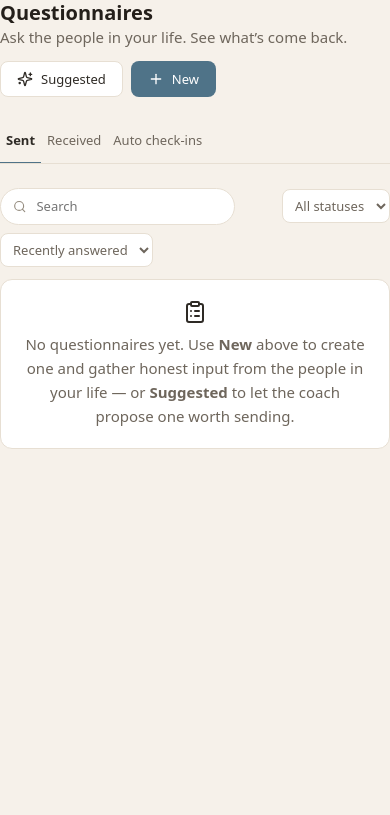
it: Questionnaires › offers contextOnly as the most-private compatibility mode, never implying owner access (38 §3.8)
Click the button "New": (173,79) [131,61,216,97]
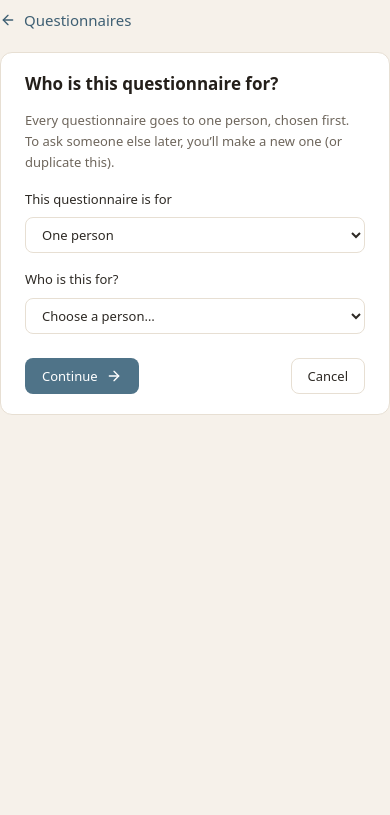
Select "Compatibility — you + them" in the dropdown labelled "This questionnaire is for": (195,235) [25,217,365,253]
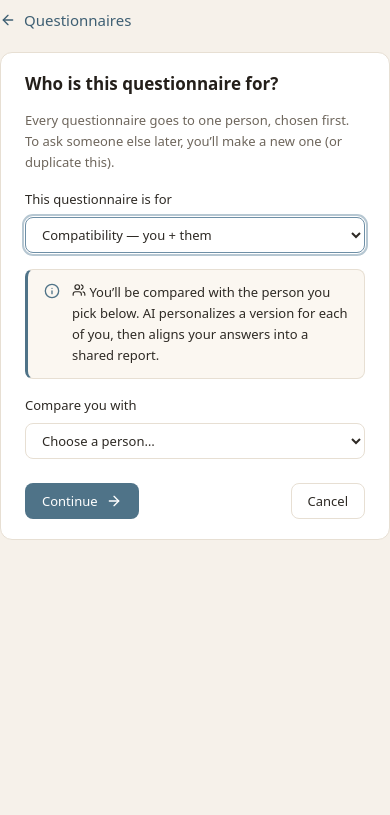
Select "Mara" in the dropdown labelled "Compare you with": (195,441) [25,423,365,459]
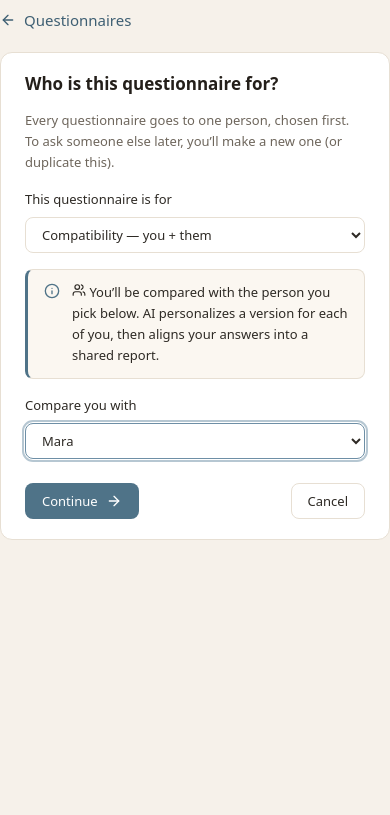
Click the button "Continue": (82,501) [25,483,139,519]
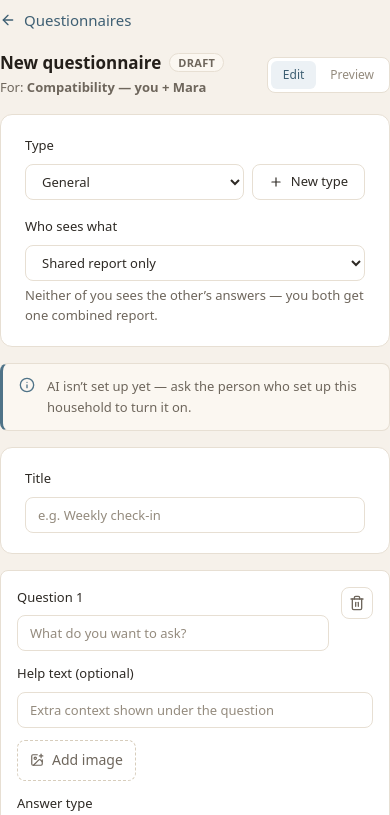
Check: the field labelled "Title" is shown, box [25,497,365,533]
Select "No report — just inform each coach" in the dropdown labelled "Who sees what": (195,263) [25,245,365,281]
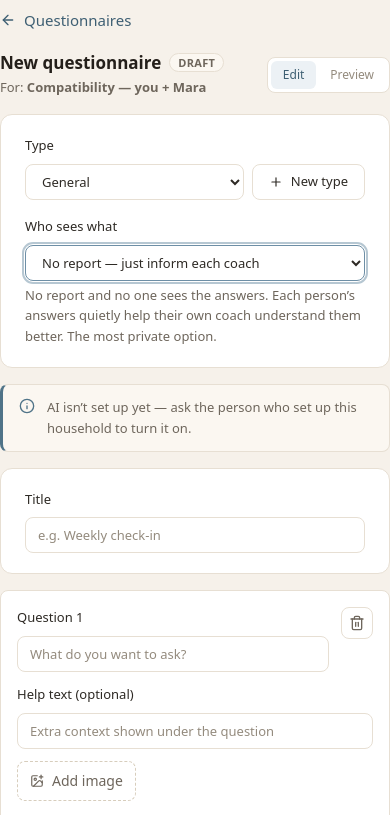
Check: the text "most private option" is shown, box [25,286,361,345]
